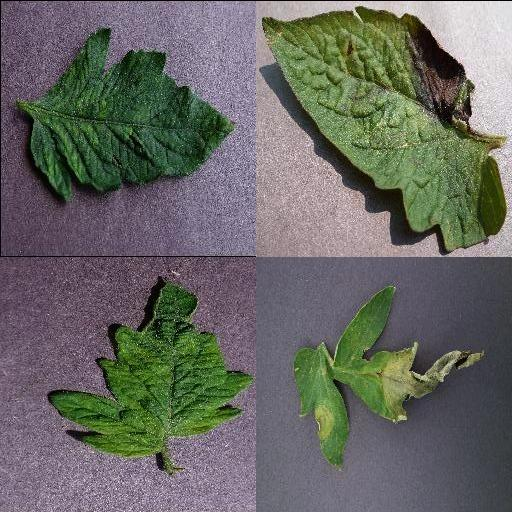Late Blight: (259, 5, 507, 253), (291, 286, 487, 472)
Mosaic Virus: (47, 278, 255, 458), (31, 29, 237, 201)
